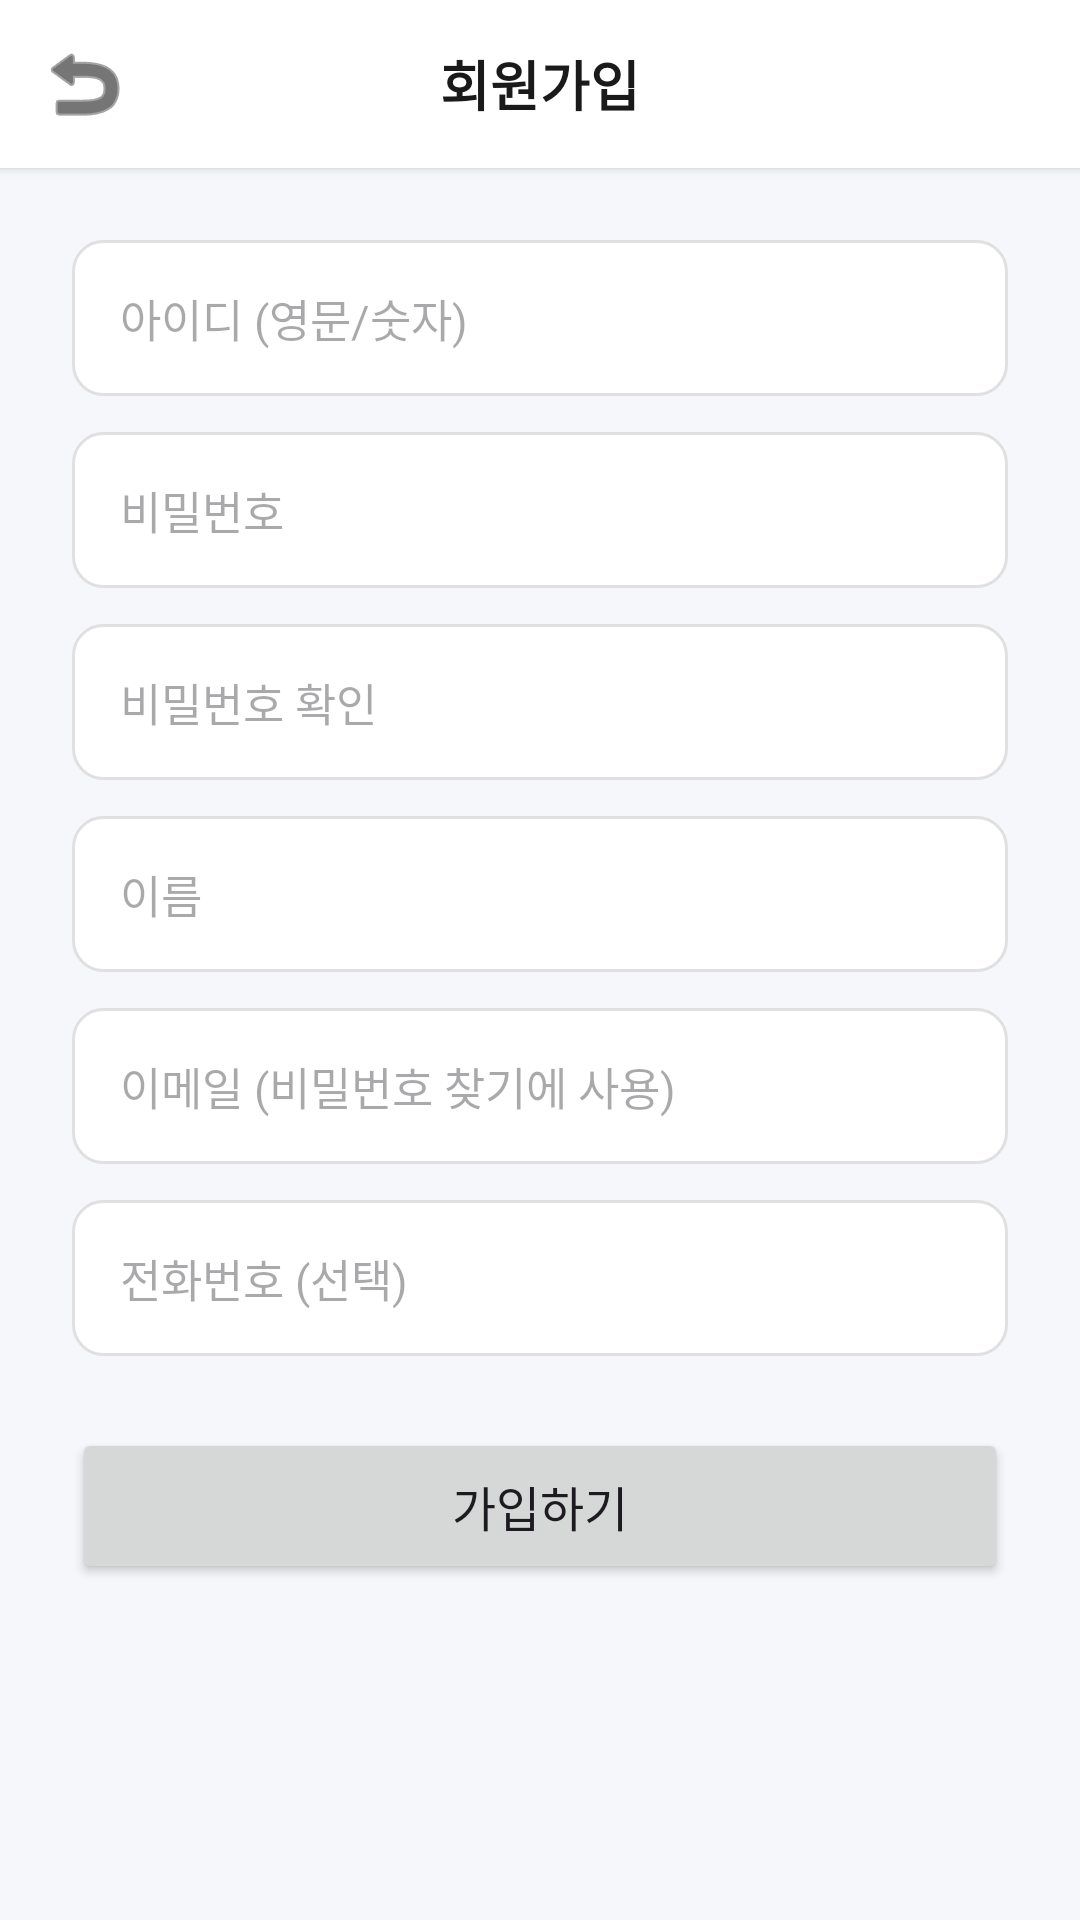

Icons on this 1080×1920 Android screen, each with its box as (x1, y1, x2, y2):
뒤로: (51, 53, 120, 116)
